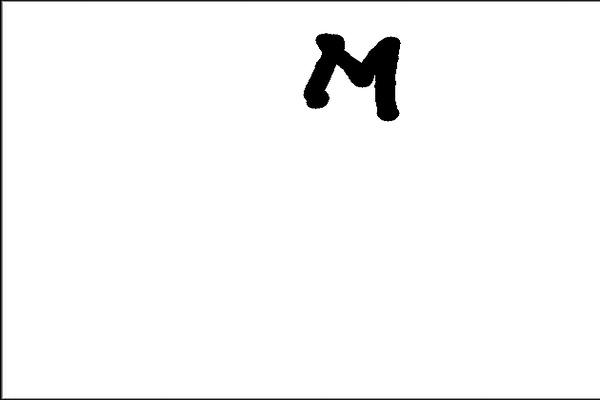M: (301, 26, 403, 124)
